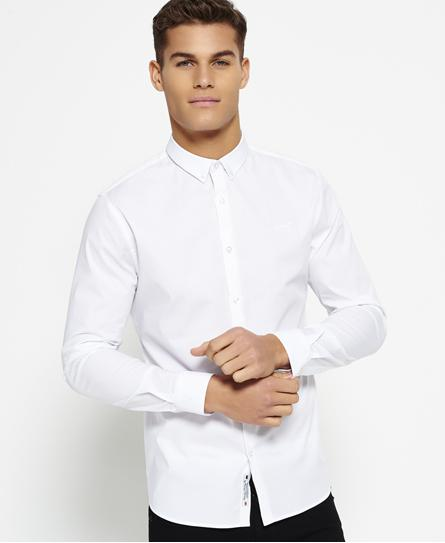teeshirt: (62, 144, 400, 501)
